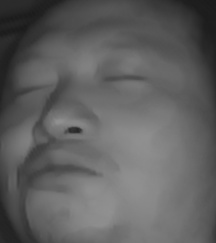blink: (100, 67, 143, 92), (7, 77, 50, 100)
mouth: (21, 149, 98, 191)
